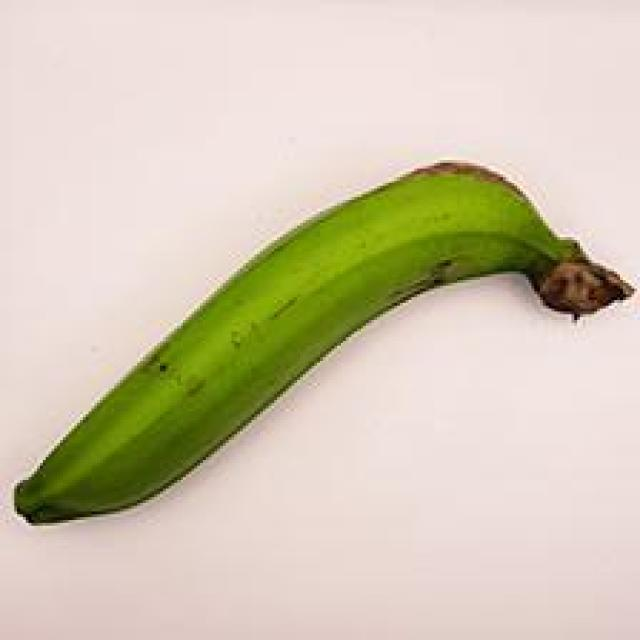Raw: (0, 130, 640, 541)
